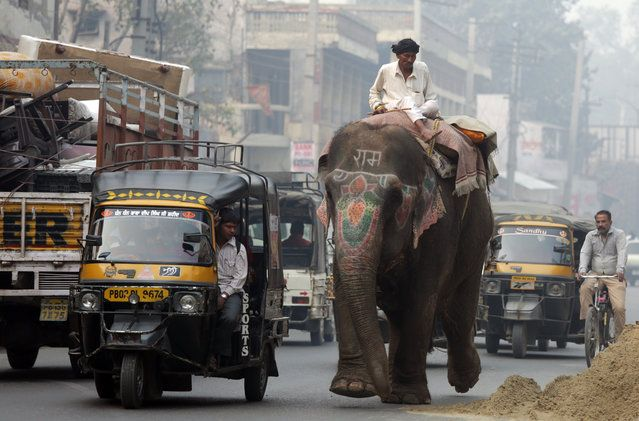Indian Elephant: (302, 106, 506, 397)
